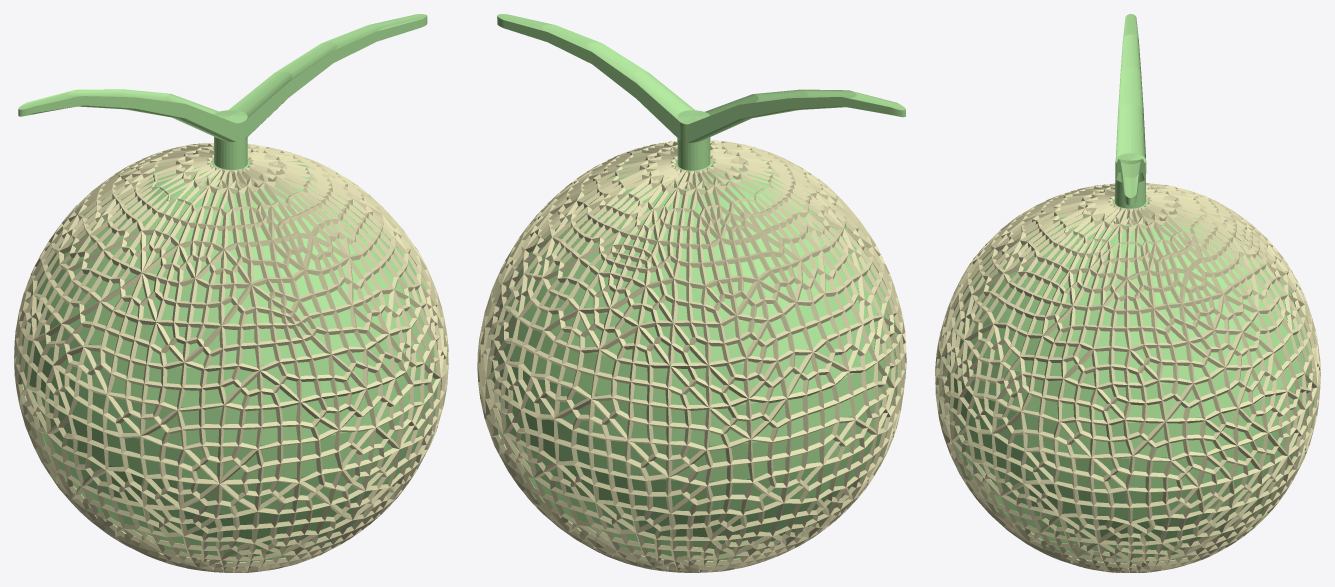
The model's file is melon.fbx.
3 renders of one model, left to right at view 1: azimuth 30°, elevation 25°; view 2: azimuth 150°, elevation 25°; view 3: azimuth 270°, elevation 25°, orthographic. The views are drawn at different scales.
Parts seen in each view (by area): view 1: melon; view 2: melon; view 3: melon.
Boxes of the visible parts, x1,y1,x2,y2 form: melon: (14,14,448,572); melon: (477,14,906,572); melon: (935,14,1320,572).
Bounding box in the file's own units: 54.52 × 63.36 × 49.5.
